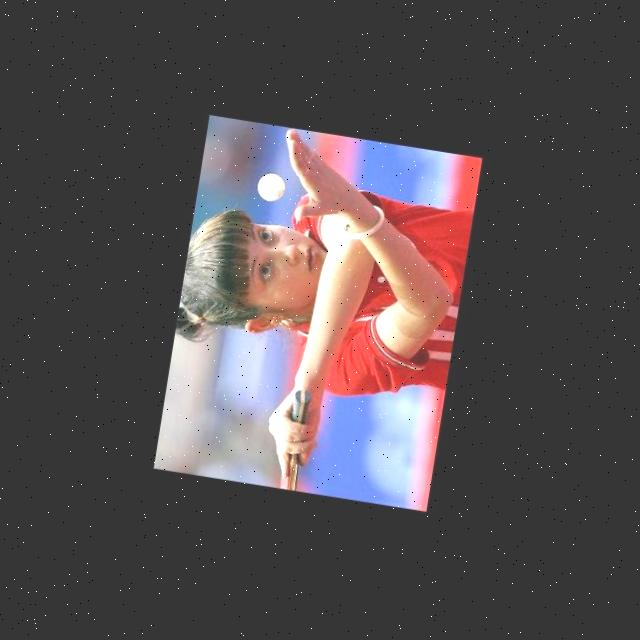ping-pong-ball: (254, 170, 288, 204)
